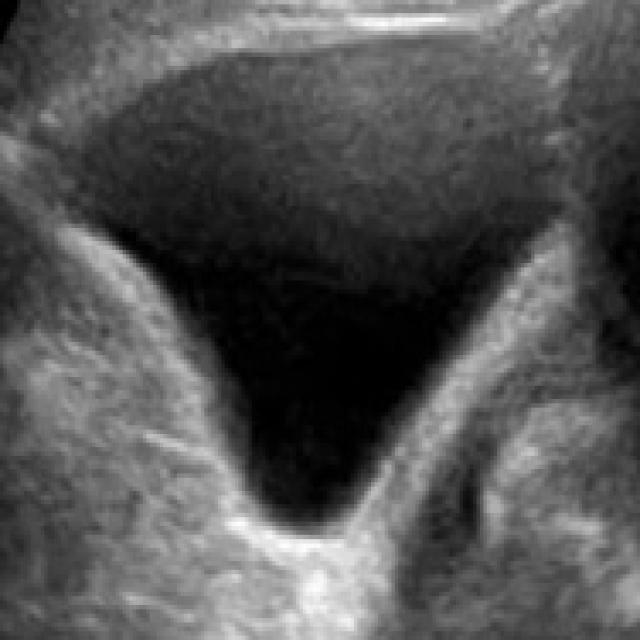bladder: (24, 19, 589, 614)
